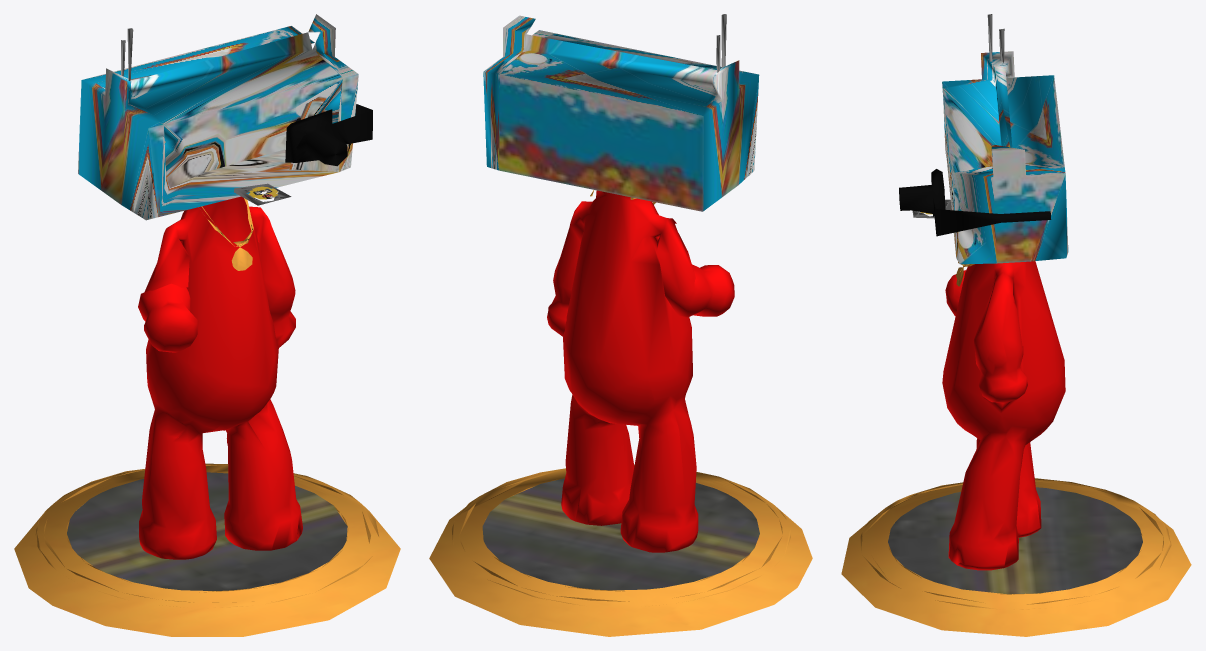
3 renders of one model, left to right at view 1: azimuth 30°, elevation 25°; view 2: azimuth 150°, elevation 25°; view 3: azimuth 270°, elevation 25°, orthographic. The views are drawn at different scales.
Bounding box in the file's own units: 1.44 × 2.3 × 1.44.
9 materials, 4 textured.
